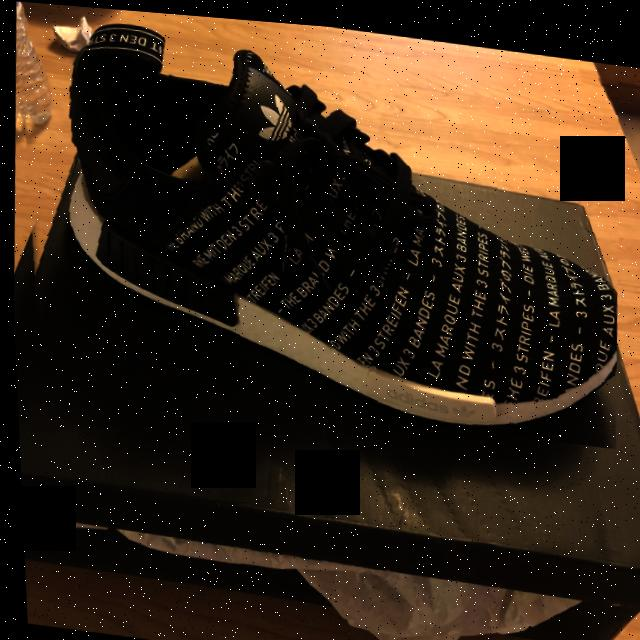shoe: (0, 0, 632, 440)
